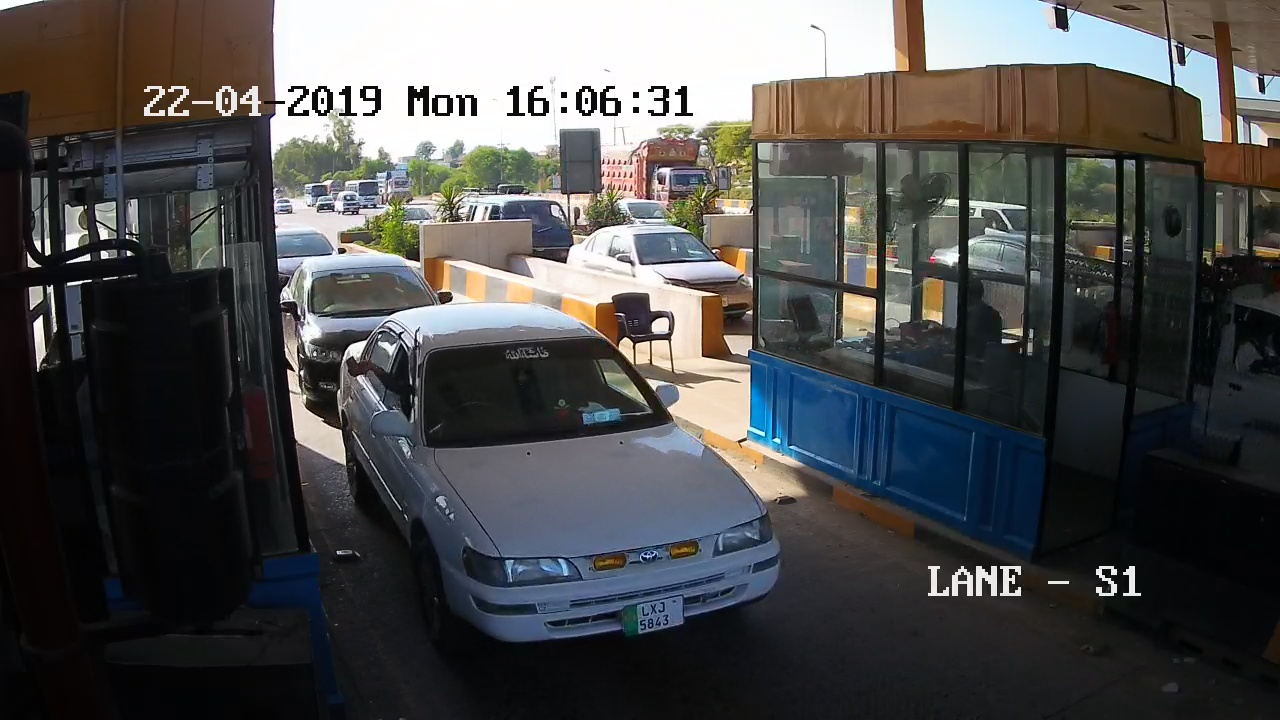Number Plate (Car): (621, 597, 685, 632)
